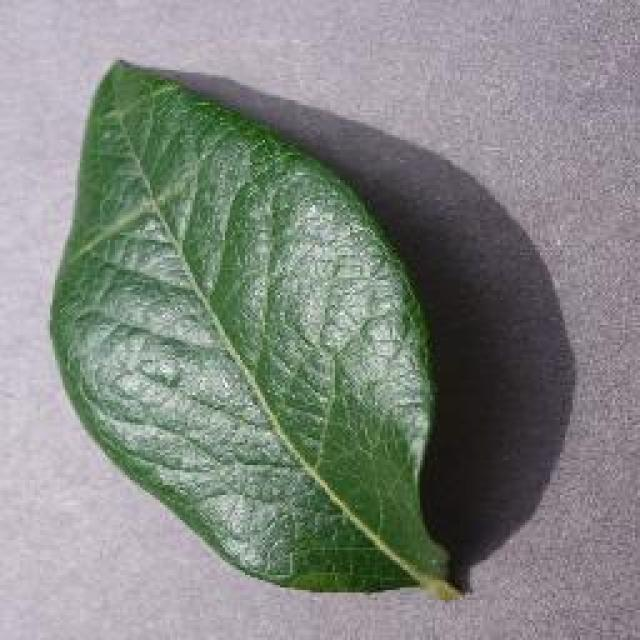Blu_healthy: (70, 112, 409, 518)
